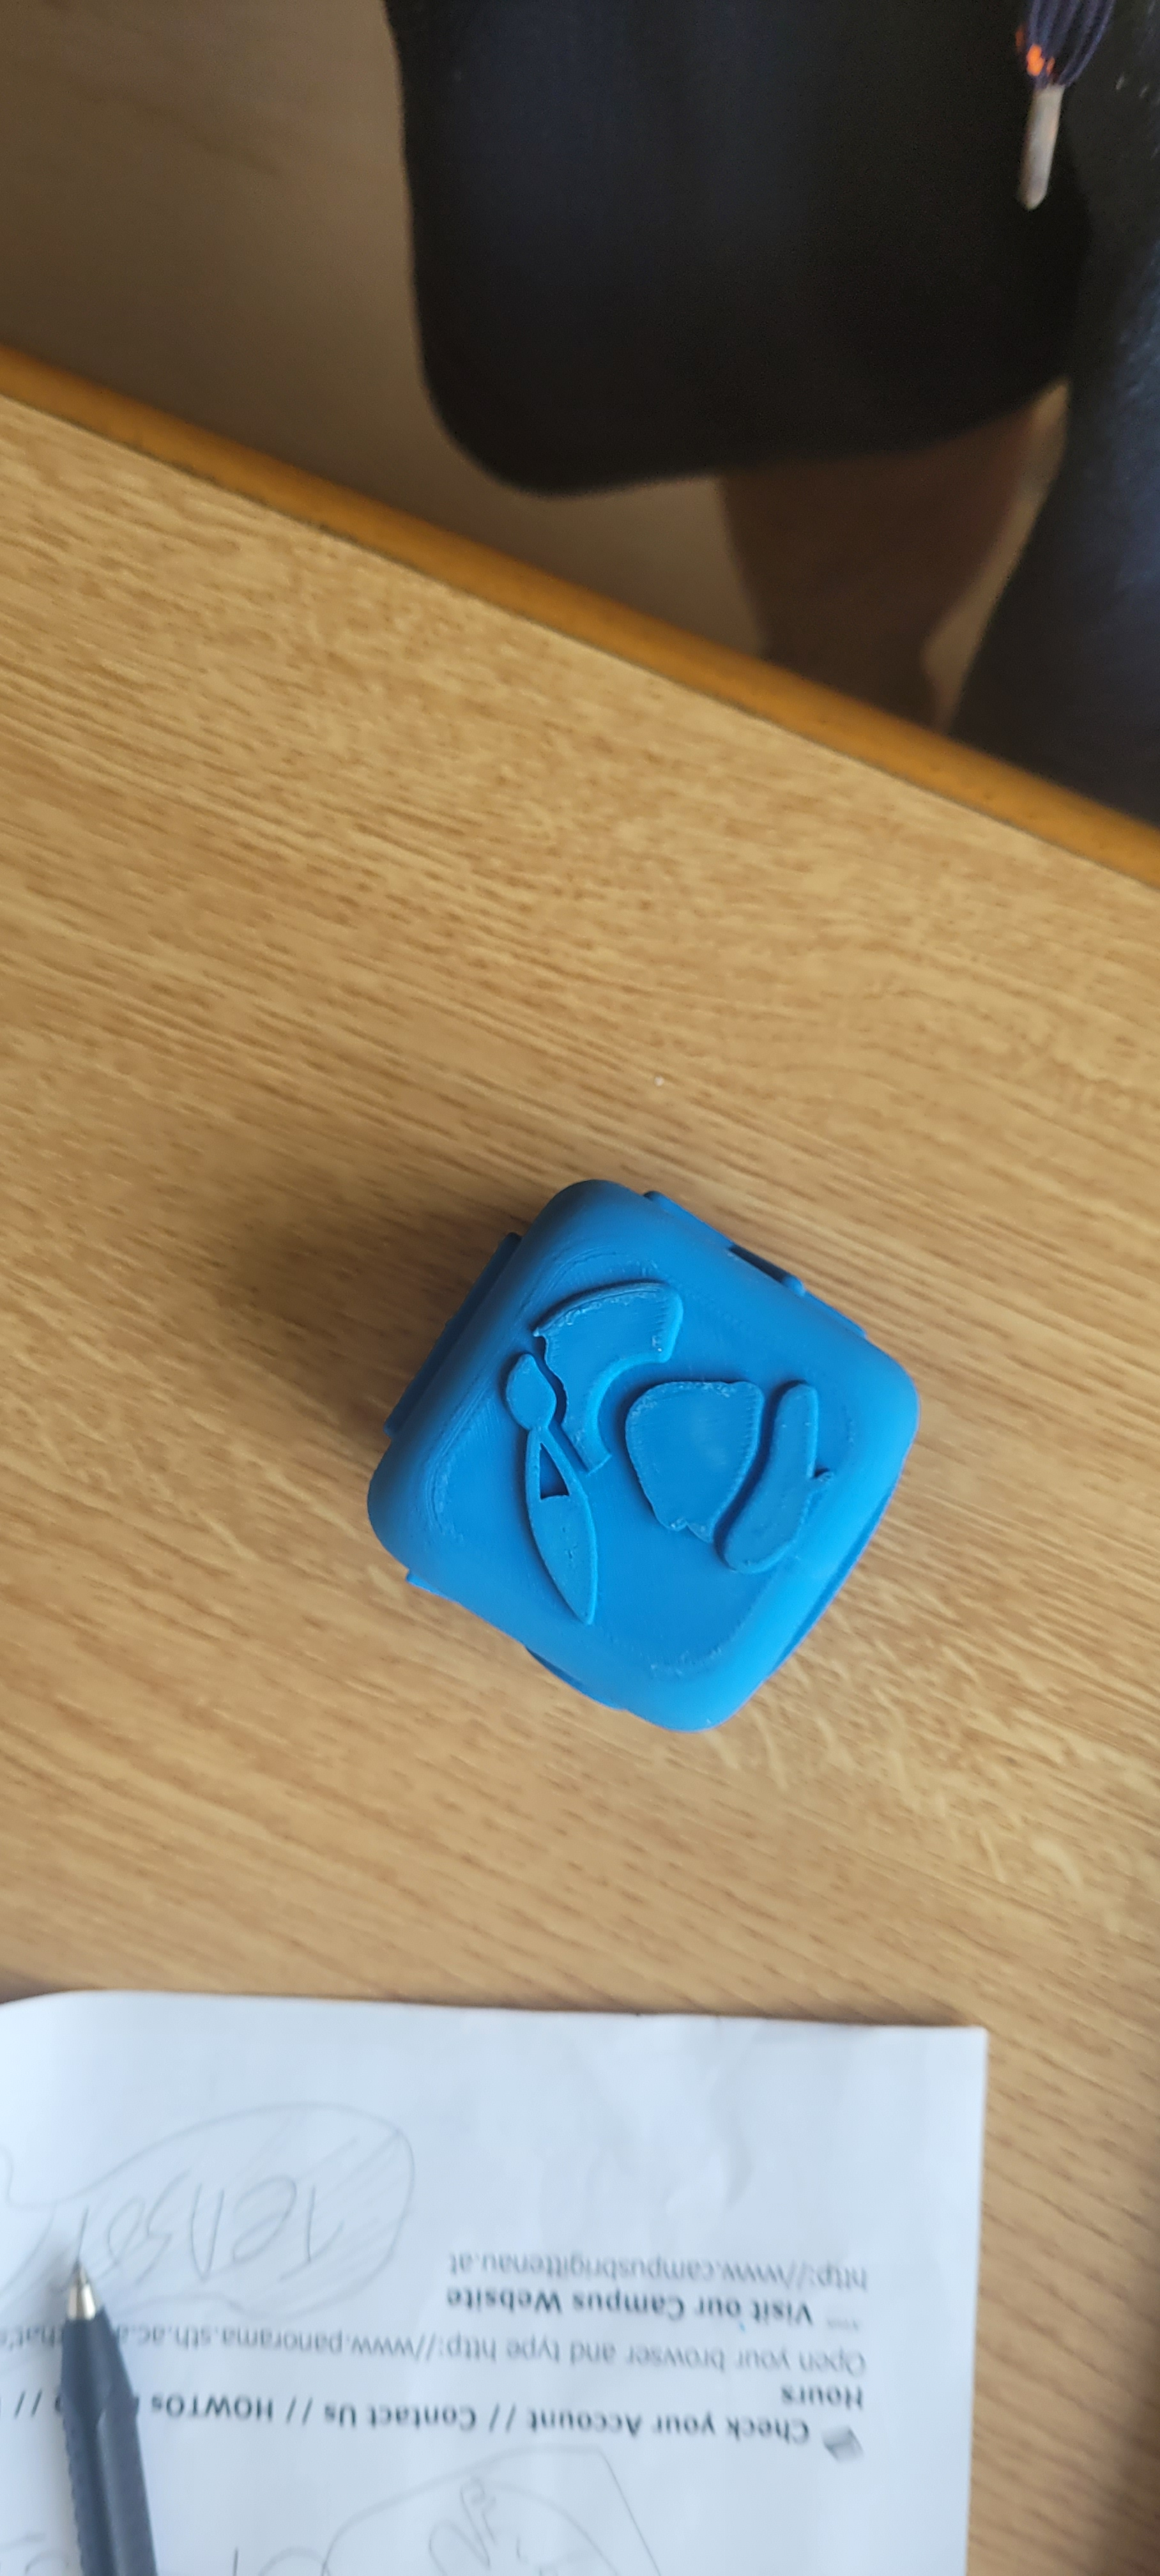Artist_Info: (450, 1119, 861, 1692)
